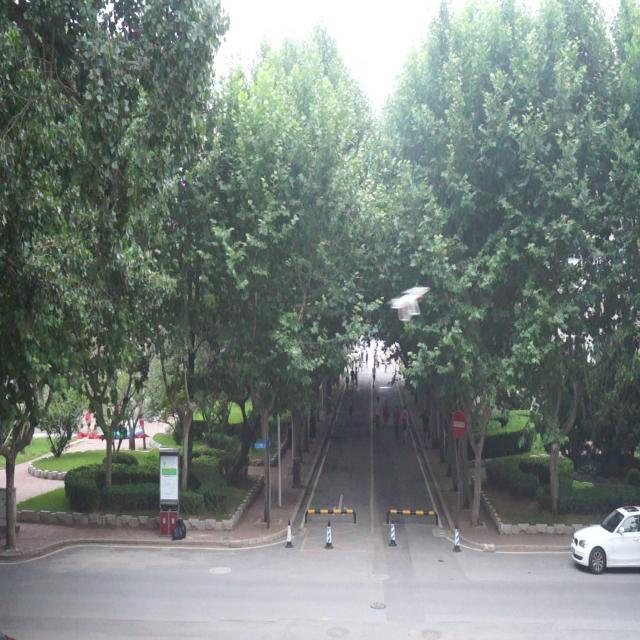UAV: (389, 287, 430, 321)
